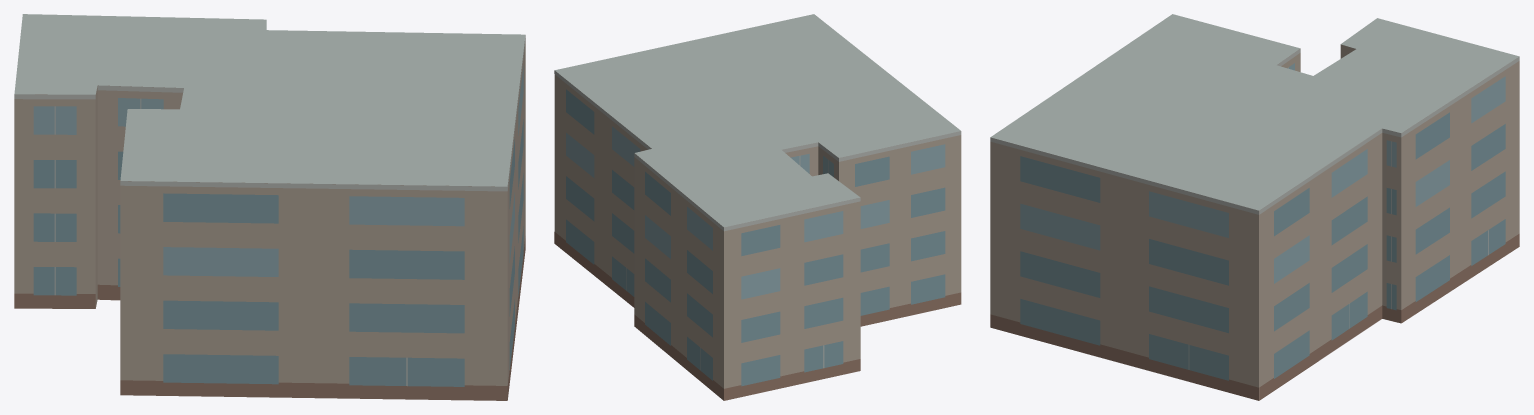
The model's file is survey-upis-32470932.glb.
The picture shows the model from 3 angles, left to right: view 1: azimuth 30°, elevation 25°; view 2: azimuth 150°, elevation 25°; view 3: azimuth 270°, elevation 25°; orthographic projection. The views are drawn at different scales.
Parts seen in each view (by area): view 1: survey-upis-32470932.tmp; view 2: survey-upis-32470932.tmp; view 3: survey-upis-32470932.tmp.
Boxes of the visible parts, x1,y1,x2,y2 form: survey-upis-32470932.tmp: [14, 14, 525, 400]; survey-upis-32470932.tmp: [554, 14, 961, 400]; survey-upis-32470932.tmp: [990, 14, 1519, 400].
Bounding box in the file's own units: 24.17 × 10.9 × 27.5.
